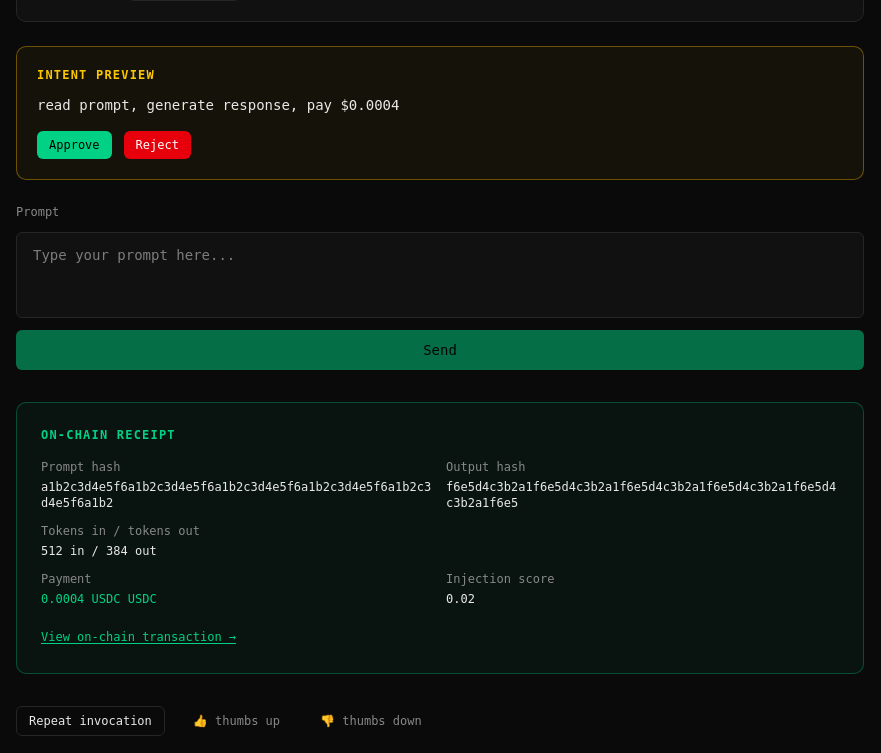
Test: SessionPage — re-invoke (SPEC §3.2 story 21) › clicking re-run pre-fills the prompt input with the previous prompt
(page scrolled)
Click the button "Repeat invocation" at (90, 721), box 16,706 -> 165,736
(page scrolled)
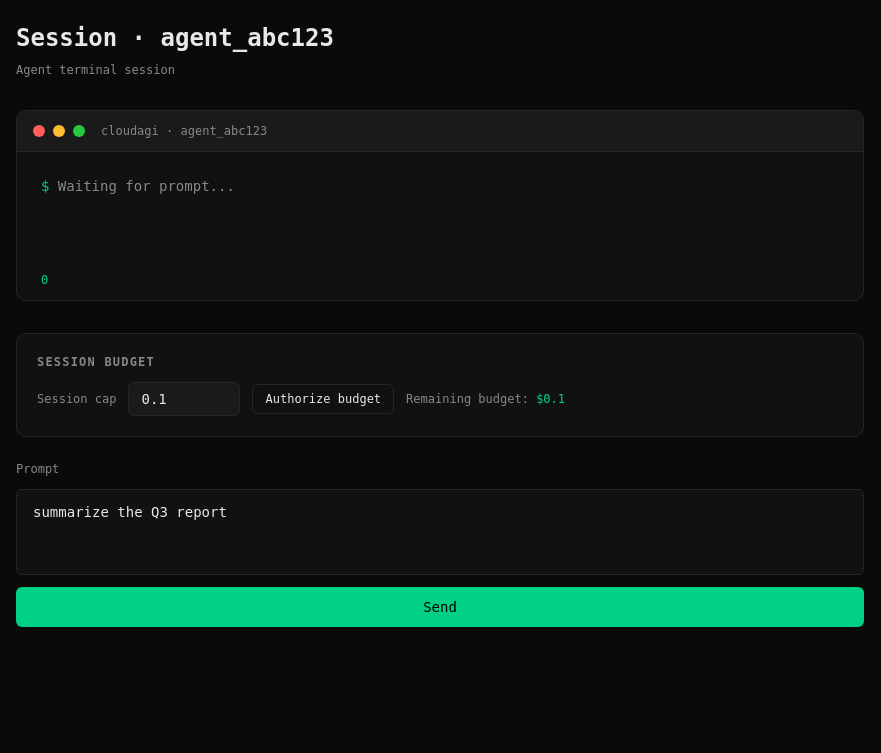
Now the text box labelled "Prompt" is not empty, box 16,489 -> 864,575
